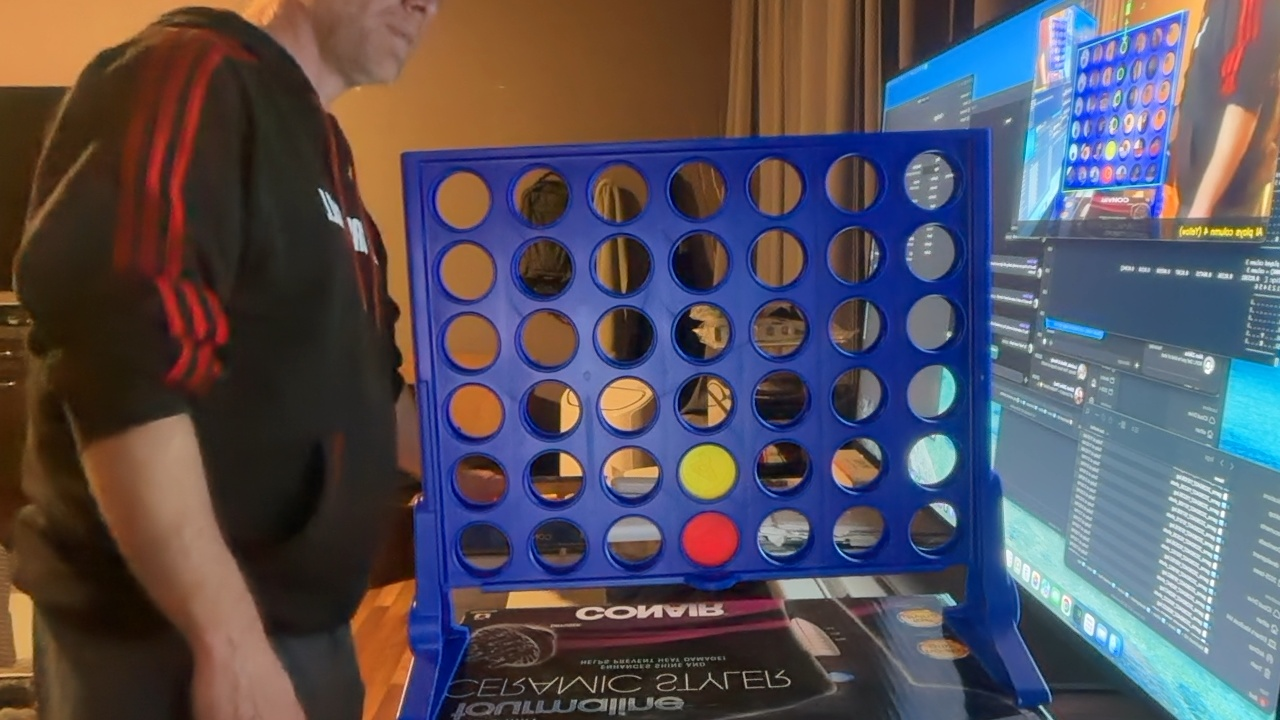red piece: (681, 512, 740, 567)
yellow piece: (678, 444, 737, 500)
